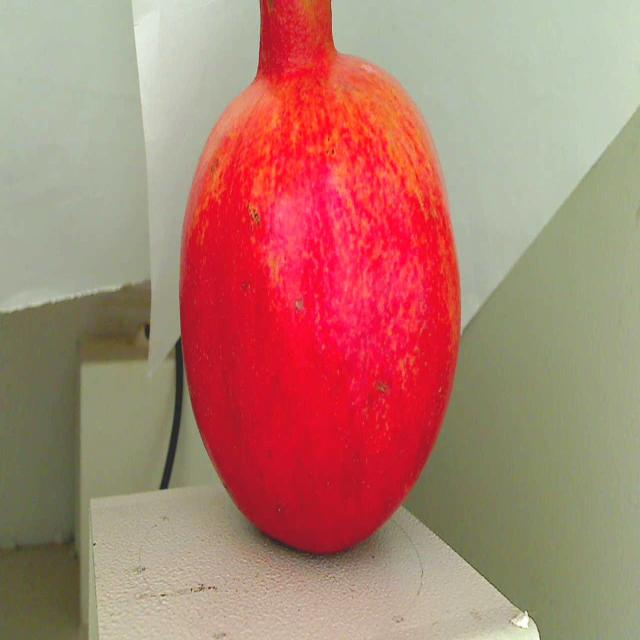pomegranate: (162, 0, 482, 568)
